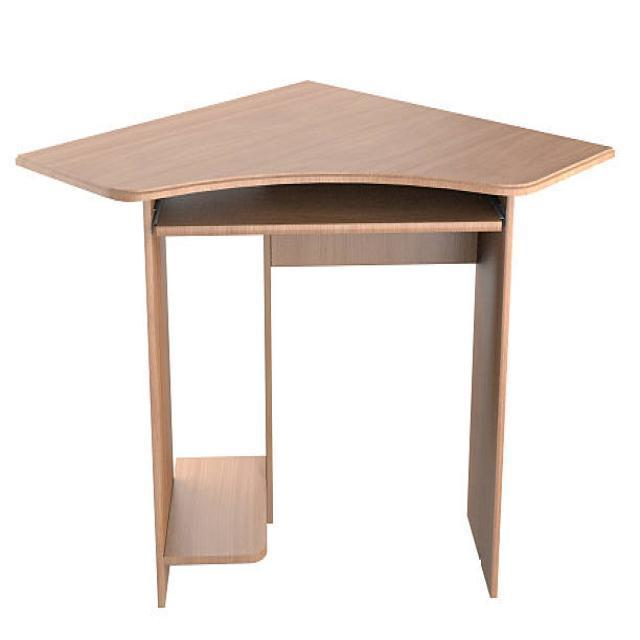table: (14, 77, 616, 608)
